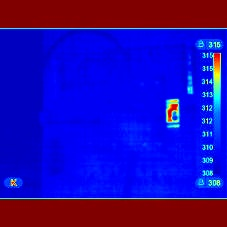Less: (173, 112, 181, 125)
